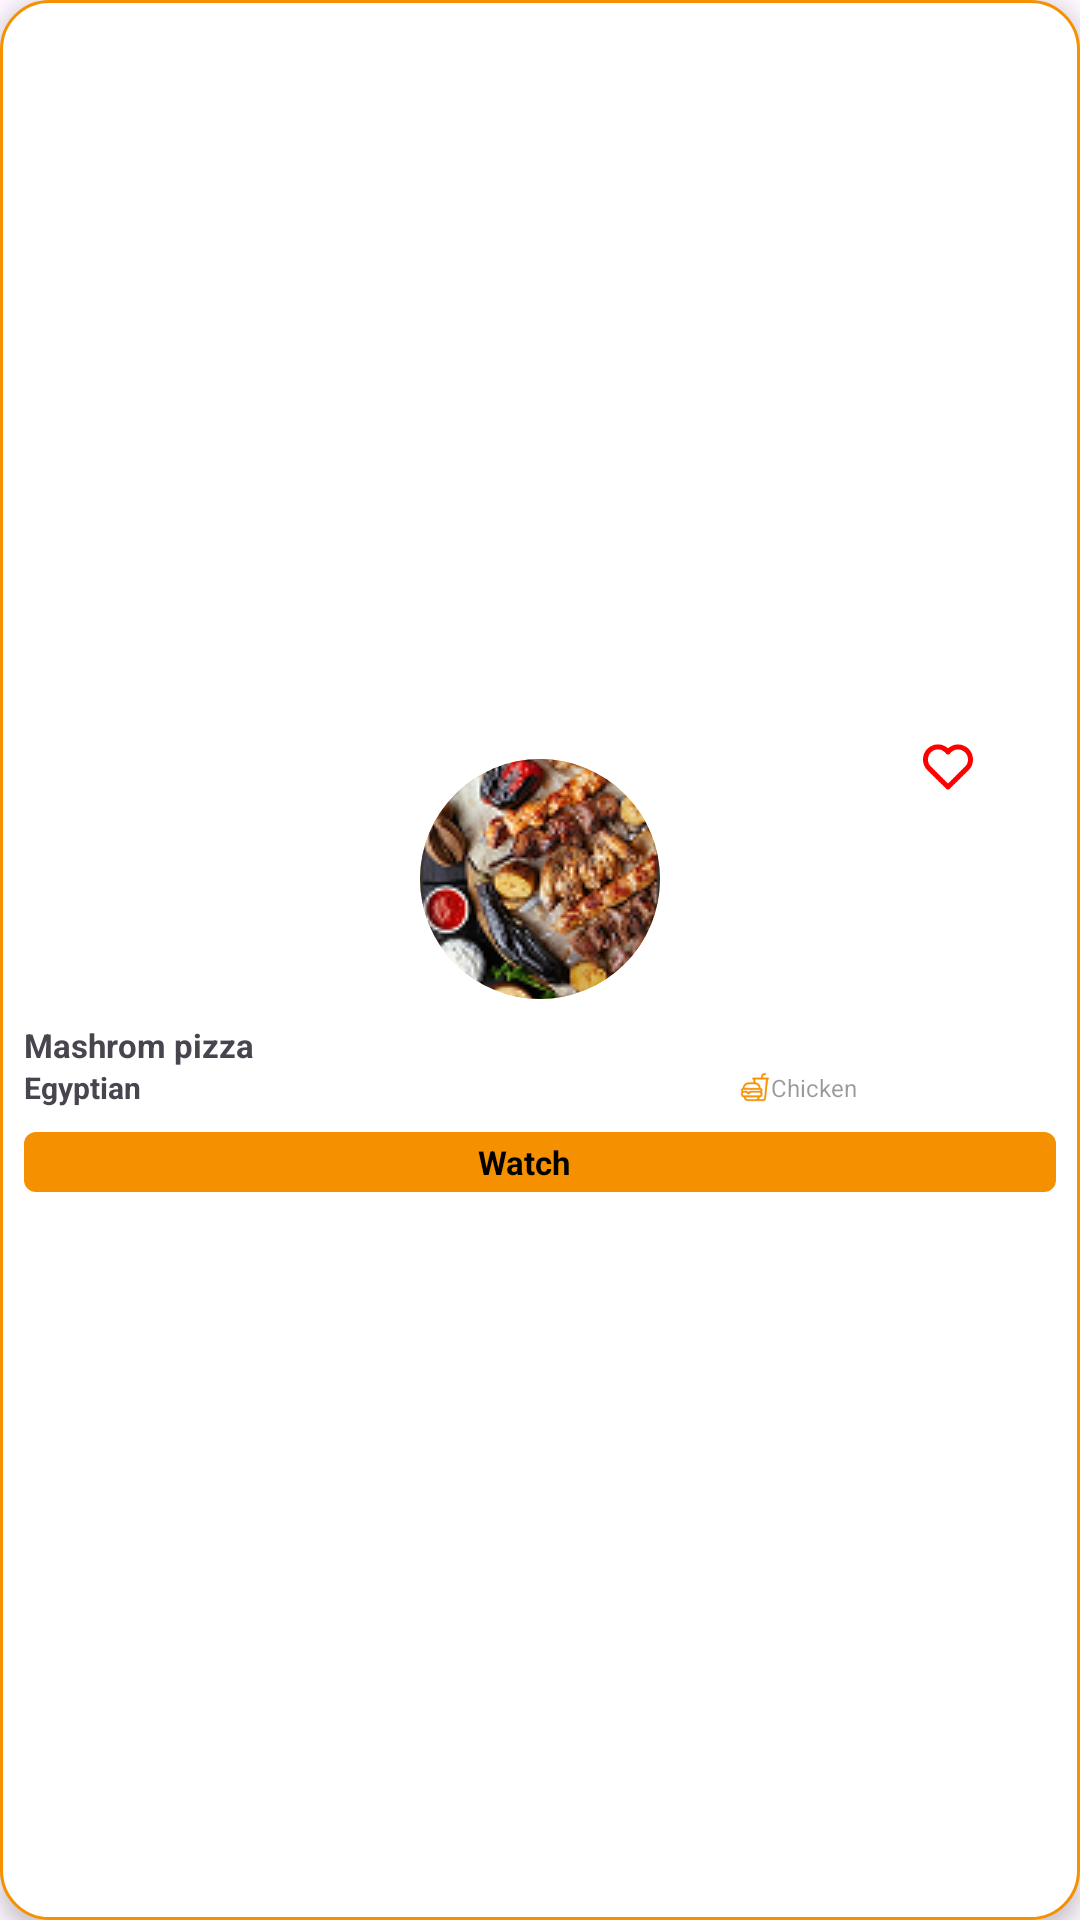

Icons on this 1080×1920 Android screen, each with the point to tap as (x,y):
favourite border: (948,767)
food: (755,1087)
